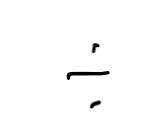div: (67, 43, 111, 109)
